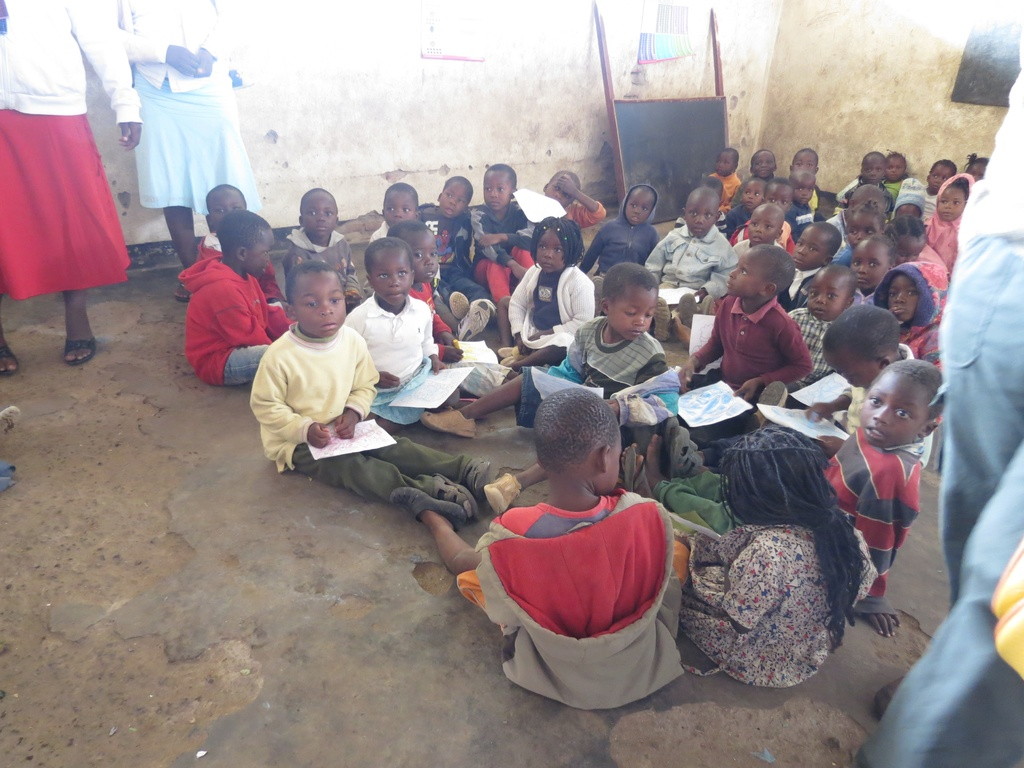Human-face: (863, 369, 927, 449), (291, 271, 348, 338), (607, 291, 659, 342), (367, 253, 412, 307), (820, 351, 878, 392), (848, 237, 890, 291), (810, 272, 851, 321), (724, 248, 761, 296), (883, 276, 918, 323), (299, 194, 335, 235), (536, 228, 568, 273), (795, 227, 829, 268), (412, 235, 439, 283), (687, 193, 716, 237), (749, 204, 779, 244), (606, 431, 625, 494), (249, 232, 275, 278), (381, 195, 418, 227), (439, 182, 470, 220), (845, 214, 880, 246), (483, 175, 513, 212), (936, 191, 968, 225), (627, 190, 655, 228), (890, 236, 927, 263), (209, 195, 248, 220), (545, 179, 575, 209), (792, 174, 816, 206), (744, 180, 766, 209), (767, 186, 792, 211), (930, 165, 952, 193), (755, 153, 776, 180), (894, 204, 921, 225), (788, 153, 817, 172), (713, 153, 734, 177), (864, 161, 885, 184), (884, 159, 906, 180), (968, 161, 988, 180)
